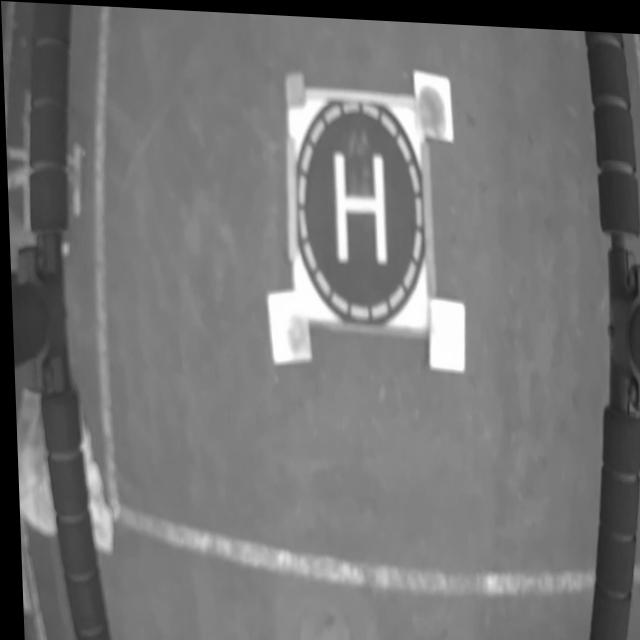Helipad: (332, 145, 385, 258)
